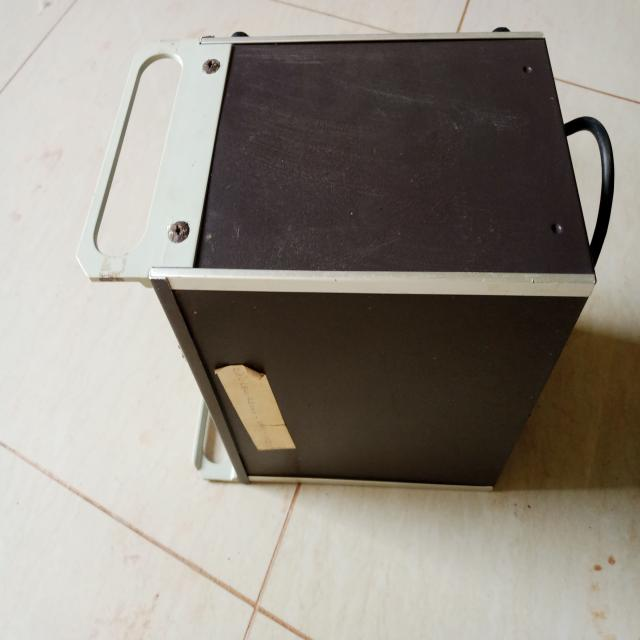Low Distortion Signal Generator: (141, 21, 606, 515)
